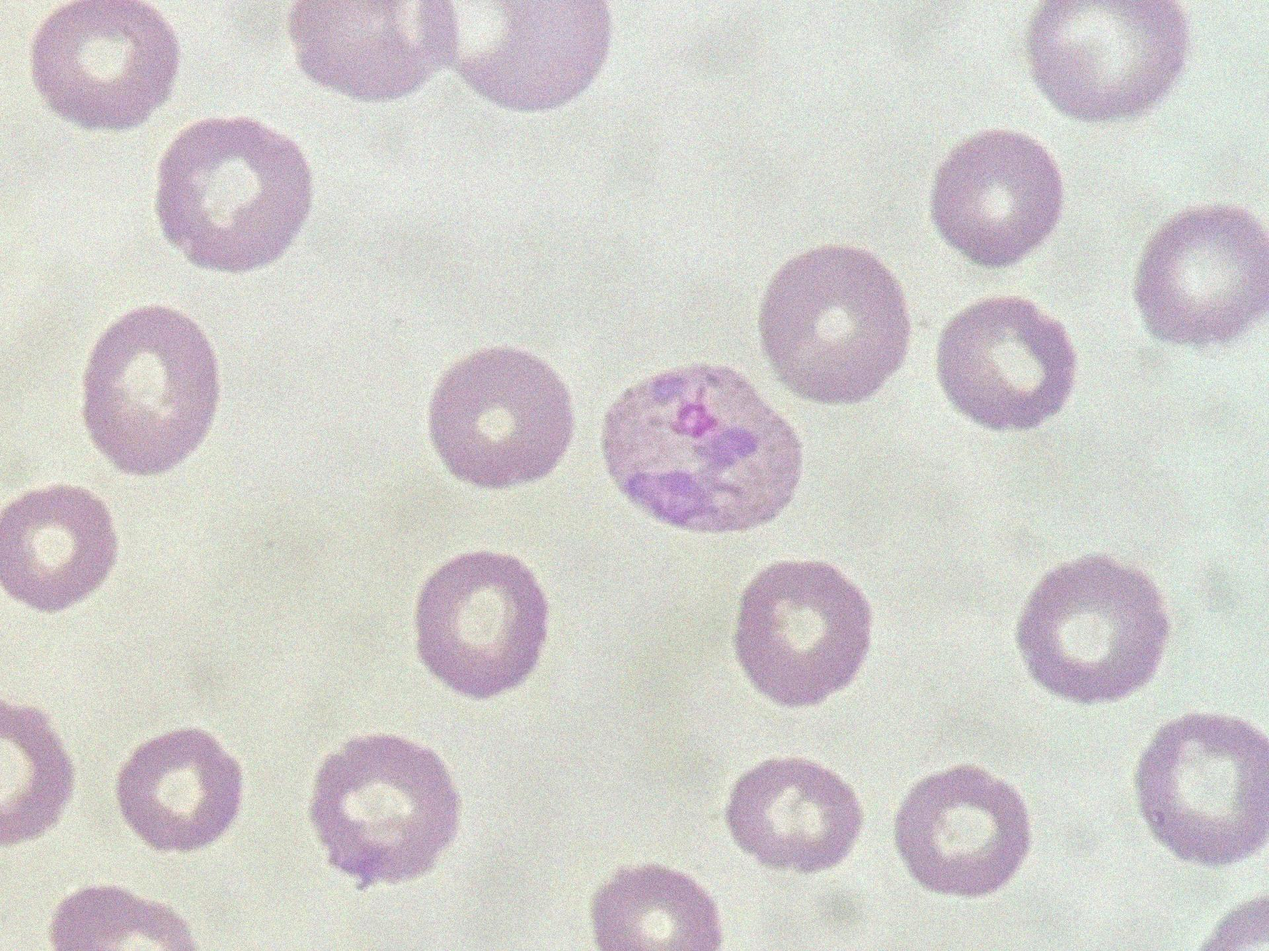Infected: (604, 362, 803, 534)
Uninfected: (762, 243, 908, 402), (84, 311, 225, 474), (1016, 551, 1163, 705), (156, 120, 308, 268), (736, 556, 875, 706), (317, 737, 457, 885), (1139, 712, 1269, 866), (405, 558, 551, 694), (427, 353, 576, 486), (31, 0, 182, 130), (1031, 0, 1184, 123), (1137, 208, 1269, 349), (899, 763, 1035, 899), (936, 300, 1072, 434), (926, 126, 1059, 261), (731, 759, 865, 875), (2, 485, 115, 621), (123, 728, 242, 853), (586, 866, 728, 951)
